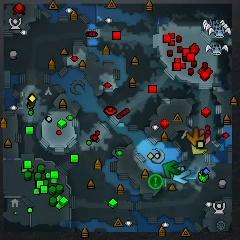Other: (148, 174, 163, 189)
x1: (199, 129, 211, 145)
x2: (191, 144, 207, 155)
x3: (173, 167, 190, 184)
x4: (163, 161, 180, 178)
x5: (185, 126, 204, 146)
